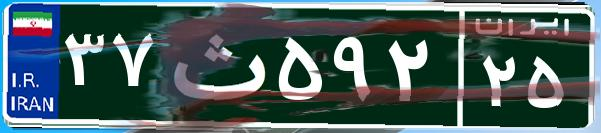2: (385, 28, 445, 110), (475, 38, 525, 113)
3: (57, 26, 110, 107)
5: (273, 28, 330, 110), (525, 38, 570, 115)
7: (110, 28, 158, 105)
9: (330, 28, 385, 110)
ث: (158, 15, 273, 115)
